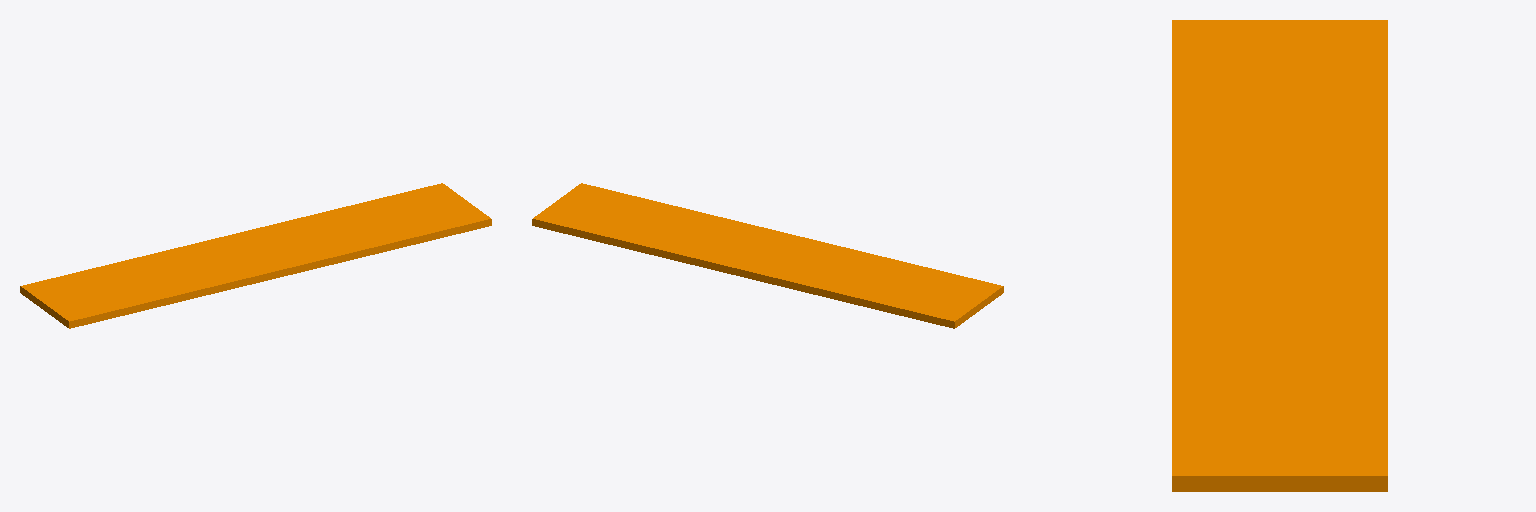
robot.urdf — ground_skeleton:
<?xml version="1.0"?>
<robot name="ground_skeleton">
    <link name="world" />
    <link name="ground_link">
        <inertial>
            <mass value="1.0" />
            <origin xyz="2.5 0 -1.868" rpy="0 0 0"/>
            <inertia ixx="1.0" ixy="0" ixz="0" iyy="1.0" iyz="0" izz="1.0" />
        </inertial>
        <visual>
            <origin xyz="0 0 -1.868" rpy="0 0 0" />
            <geometry>
                <box size="125 25 2.05" />
            </geometry>
            <material name="Carpet">
                <color rgba ="1.0 0.6 0.01 0.7"/>
            </material>
        </visual>
        <collision group="default">
            <origin xyz="0 0 -1.868"  rpy="0 0 0"/>
            <geometry>
                <box size="125 25 2.05" />
            </geometry>
        </collision>
    </link>
    <joint name="ground_joint" type="fixed">
        <origin xyz="0 0 0" rpy="0 0 0" />
        <parent link="world" />
        <child link="ground_link" />
    </joint>


</robot>

--- What the picture shows (computed from the rendered views, not written in the file) ---
The picture shows the robot from 3 angles, left to right: view 1: azimuth 30°, elevation 25°; view 2: azimuth 150°, elevation 25°; view 3: azimuth 270°, elevation 25°; orthographic projection.
Model ground_skeleton with 2 links and 1 joints (1 fixed), rooted at world, posed all joints at 0.
Visible links, largest first — view 1: ground_link; view 2: ground_link; view 3: ground_link.
Boxes of the visible links, box(x1,y1,x2,y2) form: ground_link: box(20, 183, 491, 328); ground_link: box(532, 183, 1003, 328); ground_link: box(1172, 20, 1387, 491).
Size in the robot's own frame: 125 by 25 by 2.05 metres.
Geometry: primitives only (box / cylinder / sphere), no mesh files.
